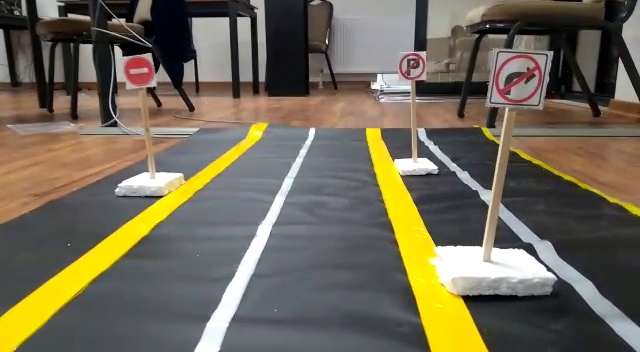girisi_olmayan_yol: (122, 52, 157, 90)
park_yapilmaz: (395, 49, 428, 80)
saga_donulmez: (487, 49, 546, 109)
